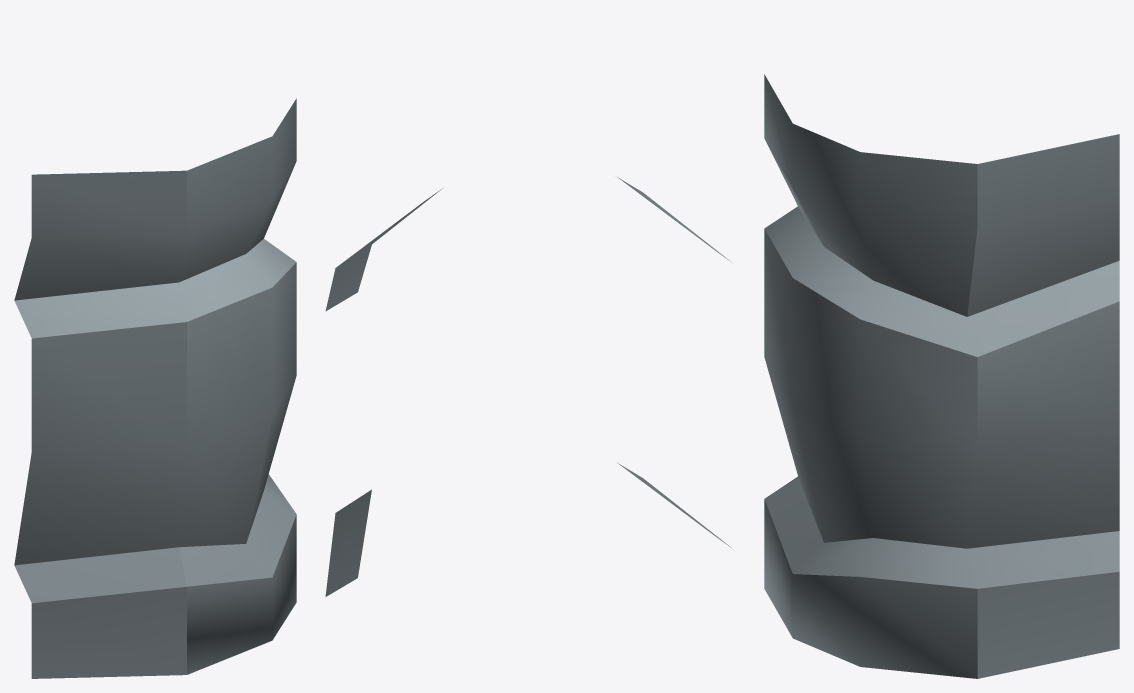
File: Hill_Cliff_Tall_I_OuterCorner_Color1.gltf
3 views of the same model, side by side, from view 1: azimuth 30°, elevation 25°; view 2: azimuth 150°, elevation 25°; view 3: azimuth 270°, elevation 25° (orthographic). The views are drawn at different scales.
Visible parts, largest first — view 1: Hill_Cliff_Tall_I_OuterCorner_Color1; view 2: Hill_Cliff_Tall_I_OuterCorner_Color1; view 3: Hill_Cliff_Tall_I_OuterCorner_Color1.
Part boxes in pixels (x1,y1,x2,y2): Hill_Cliff_Tall_I_OuterCorner_Color1: (14, 98, 296, 678); Hill_Cliff_Tall_I_OuterCorner_Color1: (325, 177, 731, 596); Hill_Cliff_Tall_I_OuterCorner_Color1: (764, 74, 1119, 678).
Size of the model in its own units: 2.5 by 4 by 2.5.
1 material, 1 textured.
